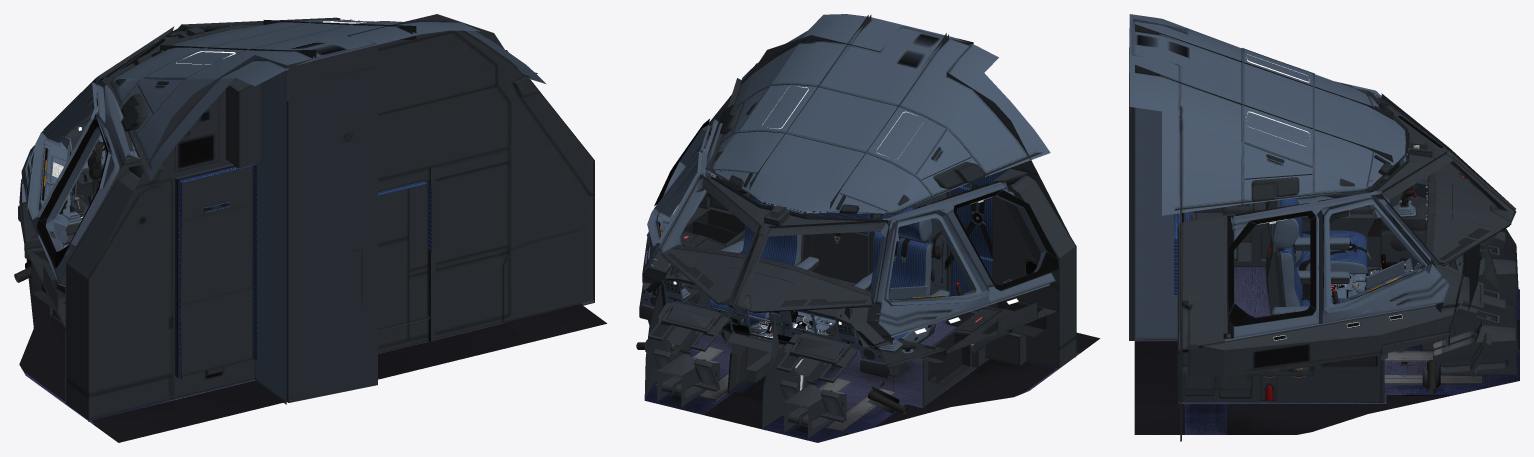
File: a320-deck.glb
3 renders of one model, left to right at view 1: azimuth 30°, elevation 25°; view 2: azimuth 150°, elevation 25°; view 3: azimuth 270°, elevation 25°, orthographic. The views are drawn at different scales.
Visible parts, largest first — view 1: pedestal_low_glare.001, carpet, WindowCpt, fd_leather, seat6, DoorC.001, sfl.003, EFB_cpt; view 2: pedestal_low_glare.001, carpet, fd_leather, fd_main, seat6.001, WindowCpt, seat6, WindowFo, sfl.003, trray_slide, tray2-cpt, LRudderPedalL (+4 smaller); view 3: pedestal_low_glare.001, carpet, fd_leather, WindowFo, sfl.003, seat6.001, EFB_fo, fd_main, seat6.
Part boxes in pixels (x1=…): pedestal_low_glare.001: x1=19, y1=14, x2=594, y2=421; carpet: x1=19, y1=258, x2=606, y2=442; WindowCpt: x1=27, y1=82, x2=123, y2=245; fd_leather: x1=18, y1=20, x2=537, y2=328; seat6: x1=178, y1=164, x2=431, y2=378; DoorC.001: x1=286, y1=44, x2=377, y2=101; sfl.003: x1=36, y1=119, x2=108, y2=268; EFB_cpt: x1=46, y1=135, x2=77, y2=207; pedestal_low_glare.001: x1=641, y1=14, x2=1076, y2=438; carpet: x1=644, y1=319, x2=1099, y2=442; fd_leather: x1=639, y1=14, x2=1058, y2=378; fd_main: x1=642, y1=195, x2=885, y2=363; seat6.001: x1=709, y1=193, x2=930, y2=350; WindowCpt: x1=870, y1=210, x2=989, y2=337; seat6: x1=813, y1=168, x2=1008, y2=310; WindowFo: x1=647, y1=151, x2=716, y2=267; sfl.003: x1=654, y1=119, x2=1059, y2=291; trray_slide: x1=657, y1=303, x2=857, y2=366; tray2-cpt: x1=795, y1=338, x2=843, y2=359; LRudderPedalL: x1=820, y1=390, x2=846, y2=422; pedestal_low_glare.001: x1=1129, y1=14, x2=1518, y2=441; carpet: x1=1134, y1=266, x2=1519, y2=434; fd_leather: x1=1135, y1=24, x2=1511, y2=372; WindowFo: x1=1317, y1=196, x2=1432, y2=312; sfl.003: x1=1228, y1=210, x2=1316, y2=326; seat6.001: x1=1279, y1=198, x2=1367, y2=306; EFB_fo: x1=1347, y1=257, x2=1422, y2=298; fd_main: x1=1182, y1=156, x2=1461, y2=313; seat6: x1=1174, y1=212, x2=1190, y2=294.
Bounding box in the file's own units: 3.25 × 2.13 × 2.57.
26 materials, 20 textured.
